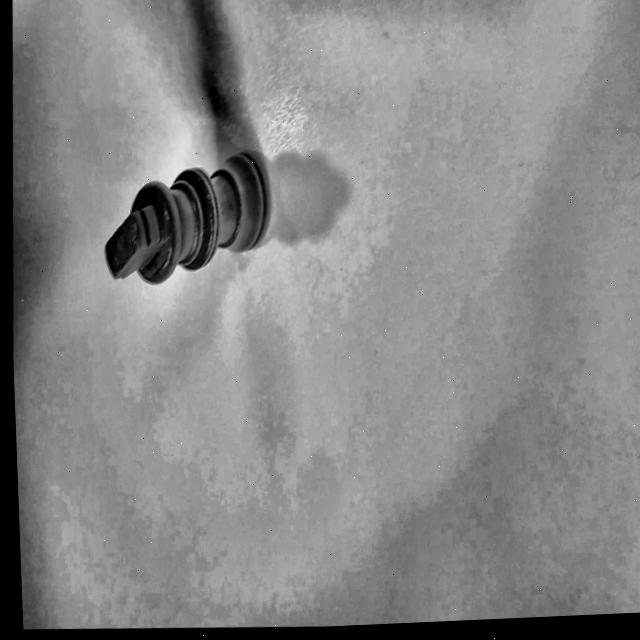black-king: (90, 121, 286, 305)
